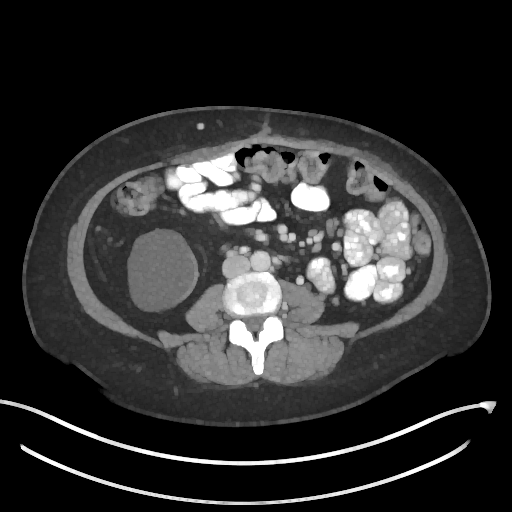Lesion: (126, 228, 201, 312)
